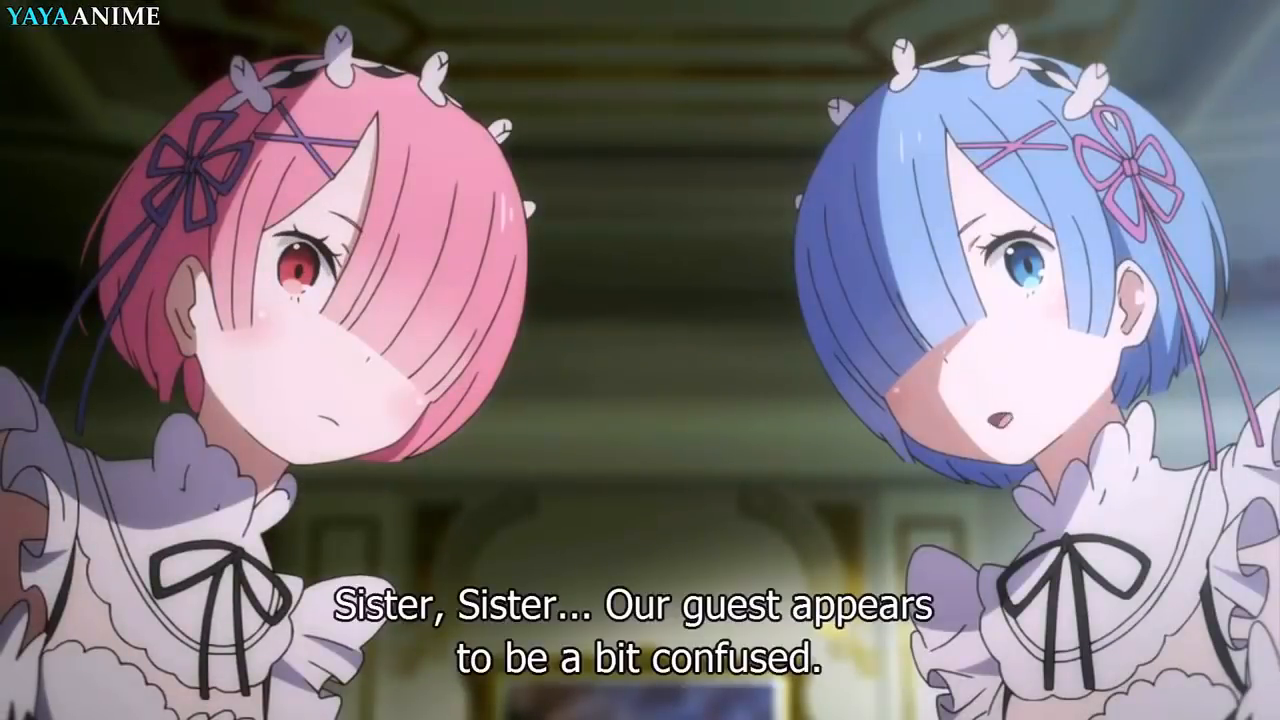REM: (788, 42, 1235, 493)
